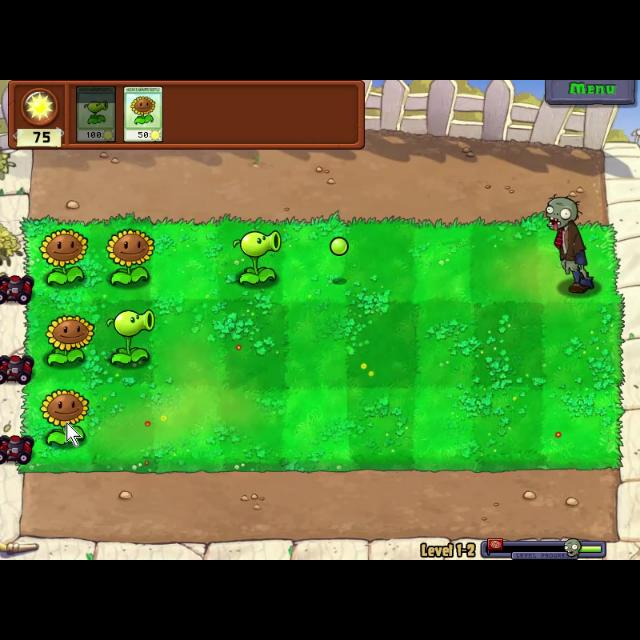Garden: (16, 212, 624, 470)
Menu Button: (542, 80, 638, 108)
Mower: (0, 352, 34, 386), (0, 274, 34, 306), (0, 434, 32, 468)
Peashooter: (74, 82, 116, 144)
Peashooter Seed: (105, 304, 158, 370), (227, 226, 283, 284)
Seed Panel: (4, 80, 368, 152)
Sunflower: (122, 83, 166, 145)
Sunflower Seed: (41, 310, 97, 366), (37, 227, 91, 285), (36, 388, 90, 446), (104, 226, 156, 286)
Zombie: (543, 196, 603, 294)
